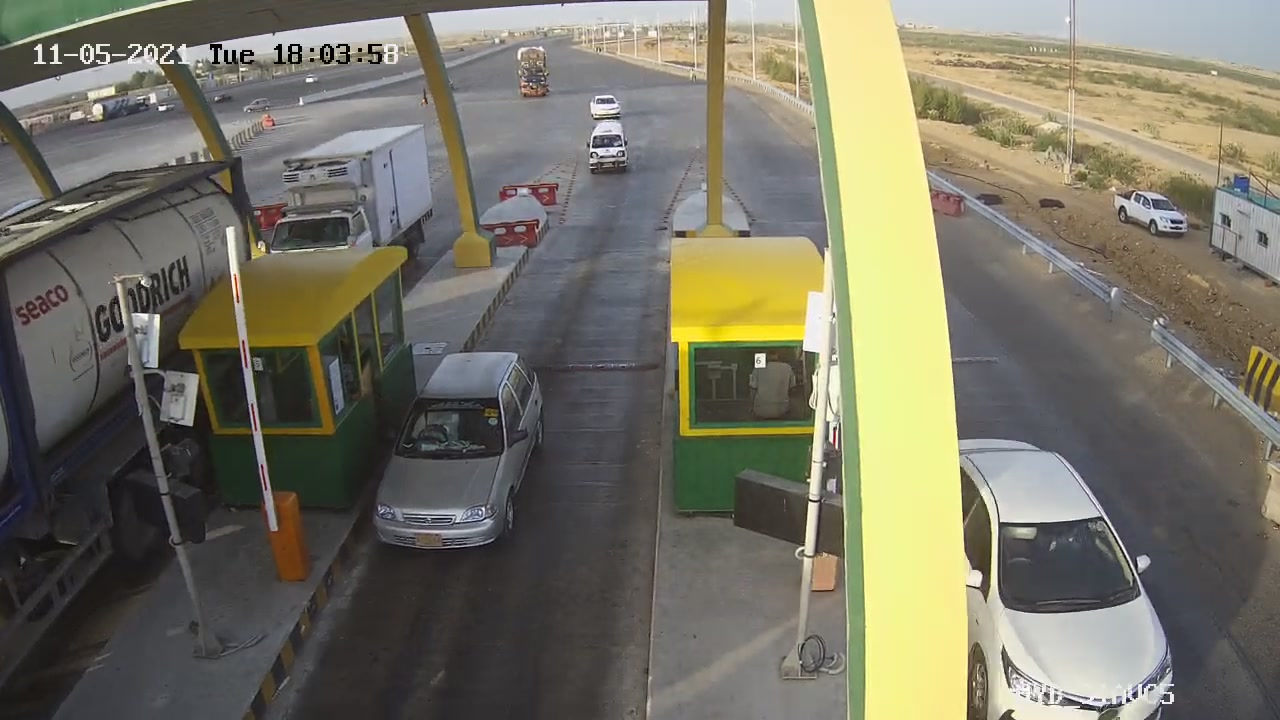F1: (351, 336, 563, 575)
